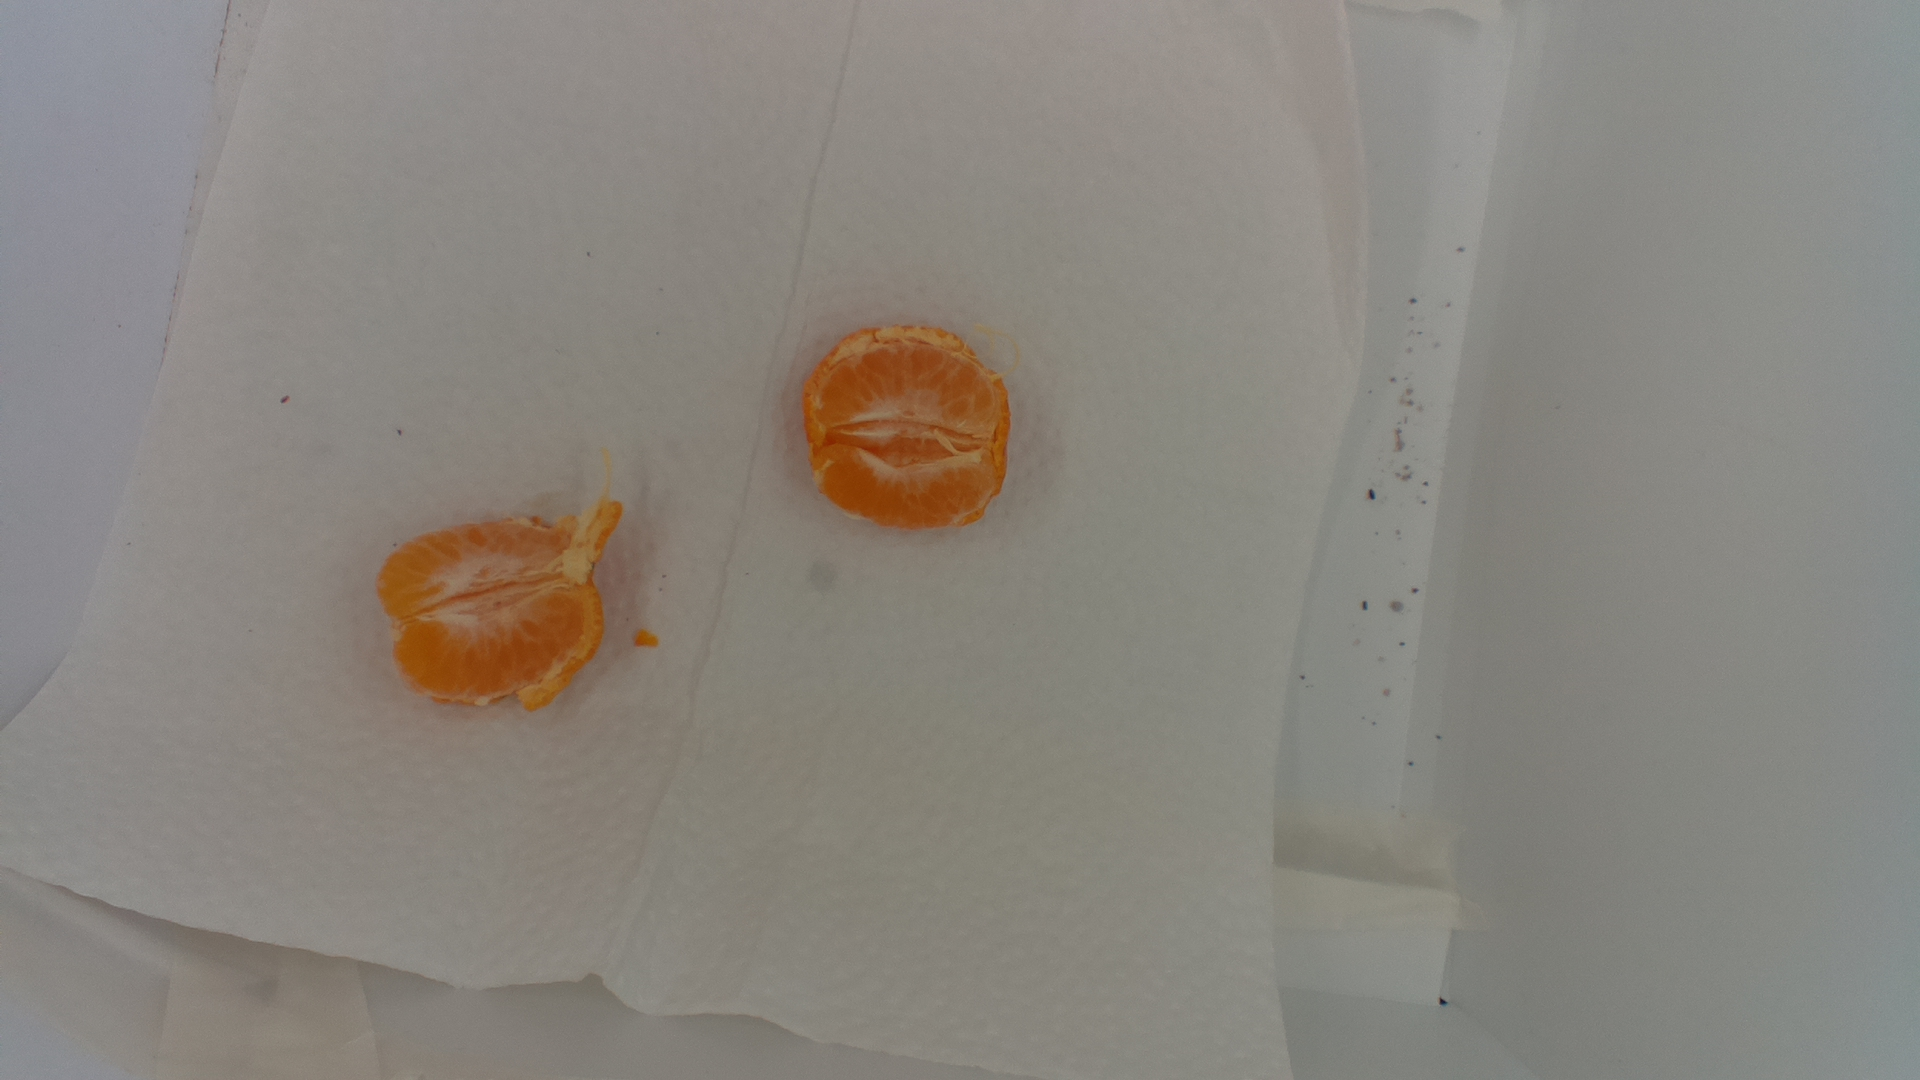fruit: (375, 476, 663, 727), (795, 322, 1052, 534)
